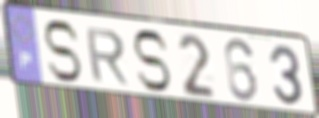2: (175, 32, 220, 101)
3: (267, 43, 304, 108)
6: (223, 37, 260, 105)
R: (83, 26, 131, 87)
S: (130, 28, 173, 95), (41, 18, 84, 85)
